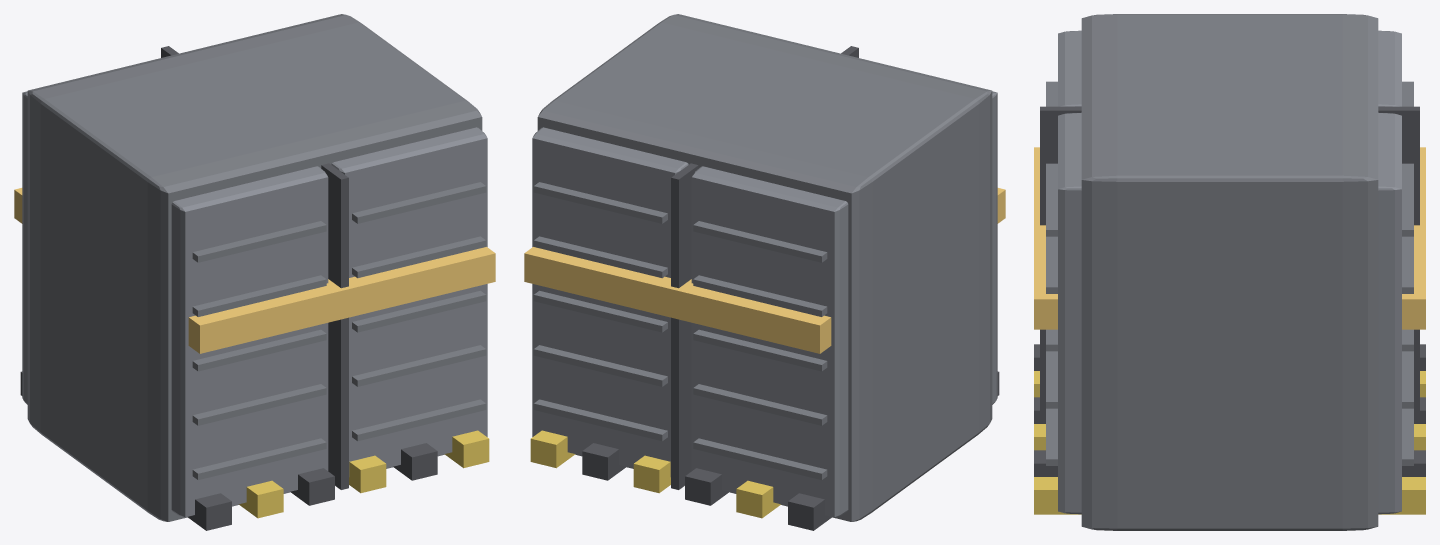
The model's file is prop_door.fbx.
3 views of the same model, side by side, from view 1: azimuth 30°, elevation 25°; view 2: azimuth 150°, elevation 25°; view 3: azimuth 270°, elevation 25° (orthographic). The views are drawn at different scales.
Parts seen in each view (by area): view 1: prop_door; view 2: prop_door; view 3: prop_door.
Boxes of the visible parts, bbox=[...] form: prop_door: bbox=[14, 14, 495, 530]; prop_door: bbox=[524, 14, 1005, 530]; prop_door: bbox=[1034, 14, 1425, 530].
Bounding box in the file's own units: 1 × 1 × 1.
